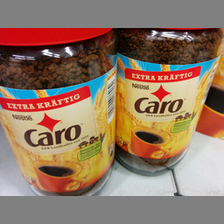coffee: (1, 28, 117, 195), (114, 28, 224, 177)
